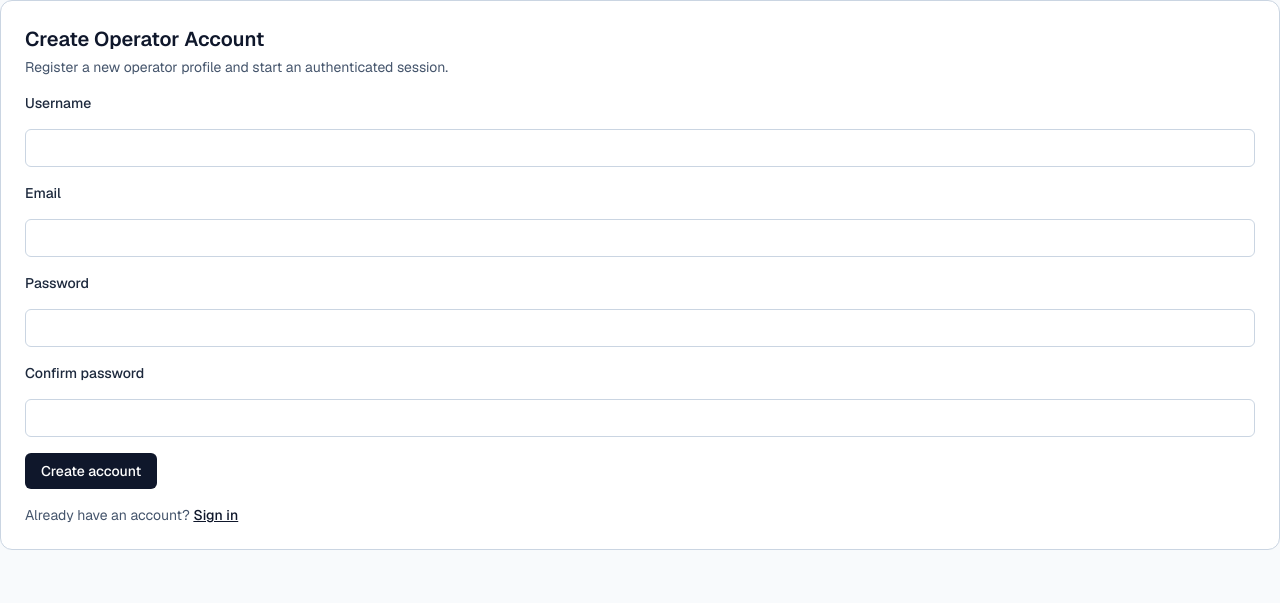
auth flow › shows mismatch error on registration
The width and height of the screenshot is (1280, 603).
Type "new-user" into the field labelled "Username". click: x=640, y=148
box: [25,129,1255,167]
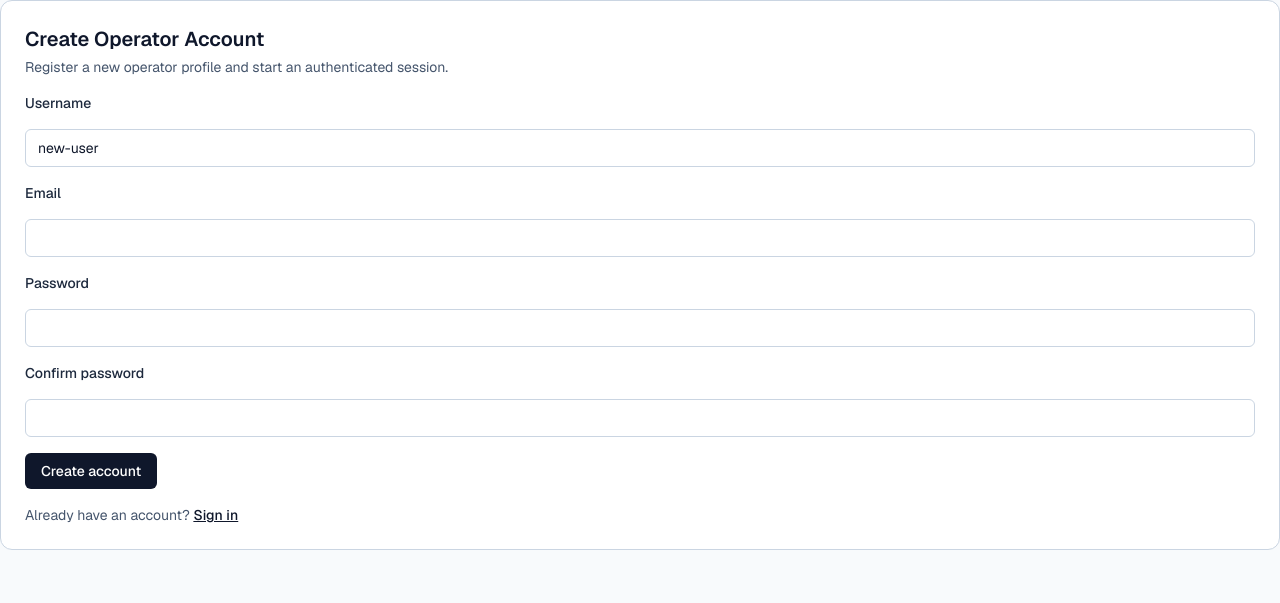
Type "new-user@example.com" into the field labelled "Email". click: x=640, y=238
box: [25,219,1255,257]
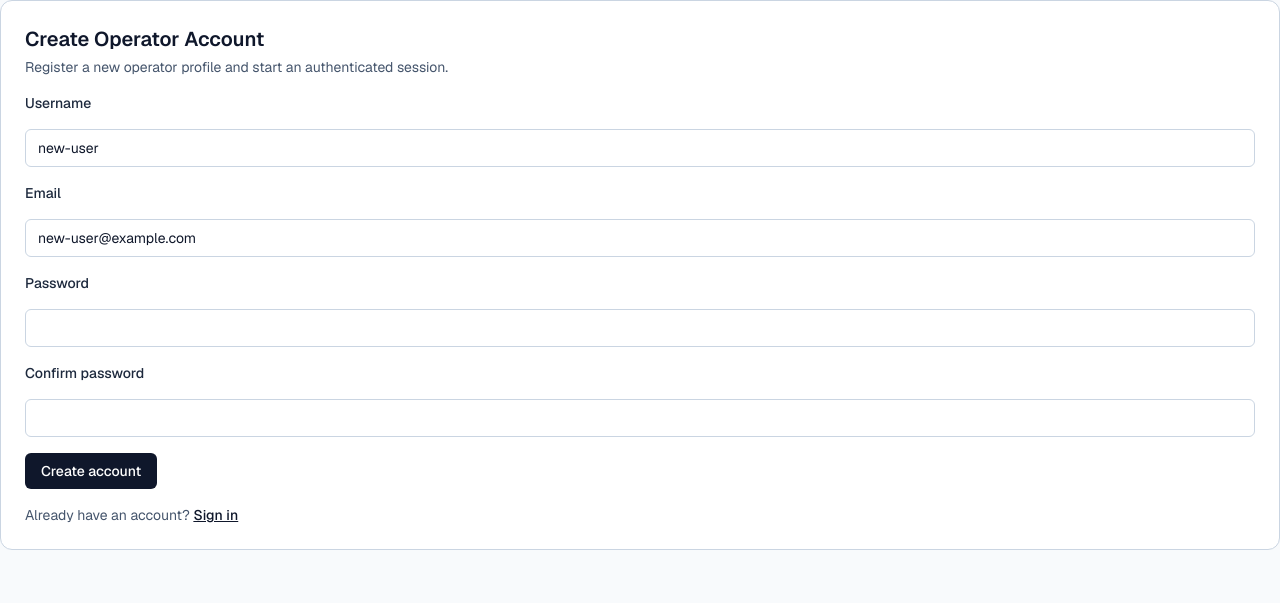
Type "StrongPass123!" into the password field labelled "Password". click: x=640, y=328
box: [25,309,1255,347]
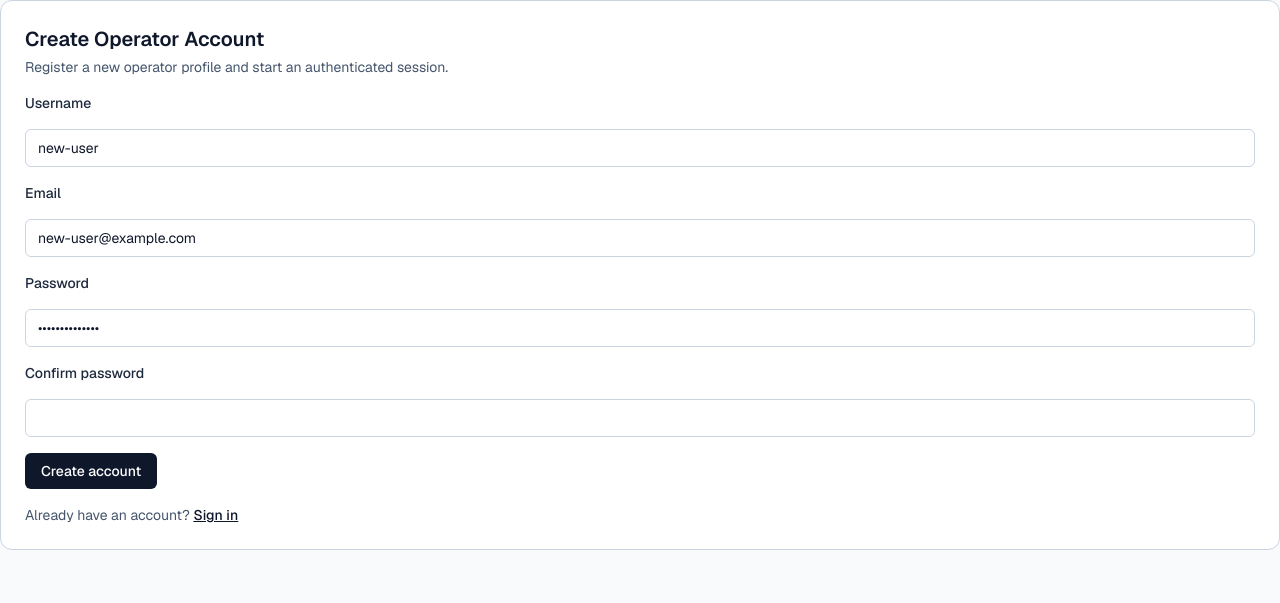
Type "DifferentPass123!" into the password field labelled "Confirm password". click: x=640, y=418
box: [25,399,1255,437]
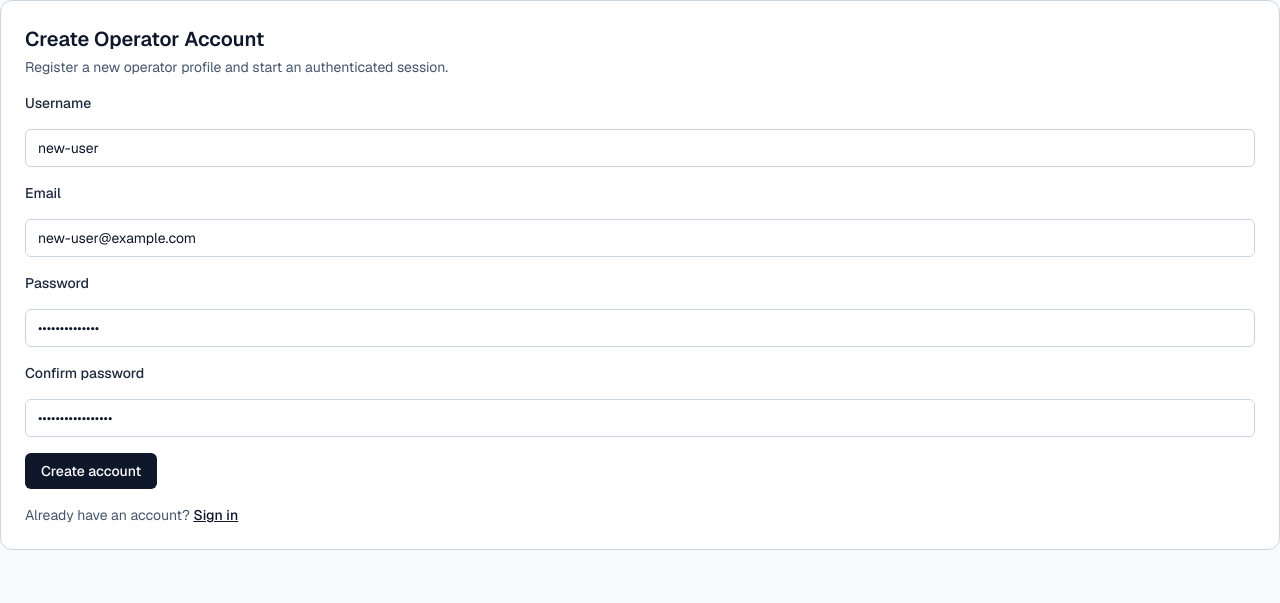
Click the button "Create account". click: x=91, y=471
box: [25,453,157,489]
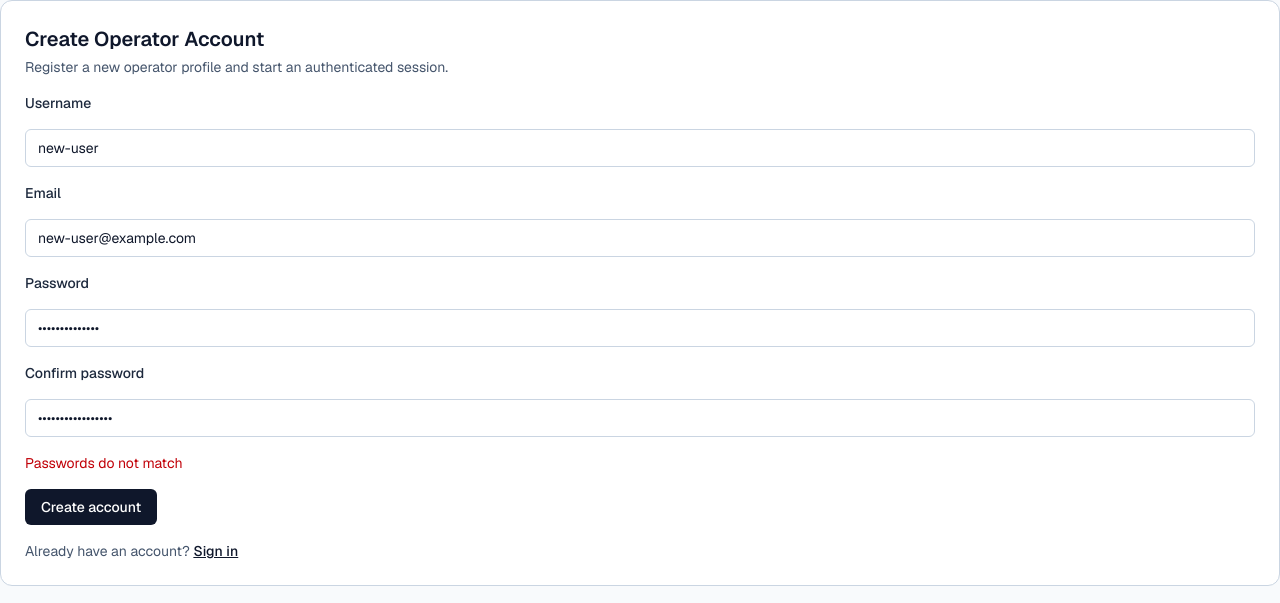
expect the text "Passwords do not match" is shown: met, box [25,454,182,472]
